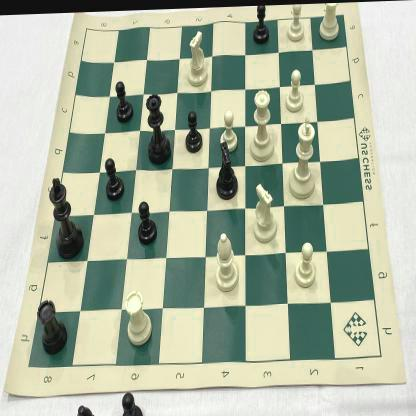black-king: (47, 173, 87, 260)
black-knight: (214, 139, 243, 200)
black-pawn: (137, 194, 160, 246), (104, 154, 126, 202), (113, 76, 134, 122), (251, 4, 271, 49), (185, 107, 203, 156)
black-queen: (145, 88, 172, 166)
black-rook: (36, 292, 68, 354)
white-bishop: (214, 228, 242, 294)
white-king: (286, 112, 320, 200)
white-knight: (252, 178, 277, 244), (186, 24, 210, 88)
white-pawn: (292, 237, 319, 289), (219, 107, 241, 153), (284, 66, 306, 112), (286, 3, 308, 42)
white-queen: (249, 85, 274, 162)
white-rook: (122, 283, 155, 348), (317, 2, 342, 42)
